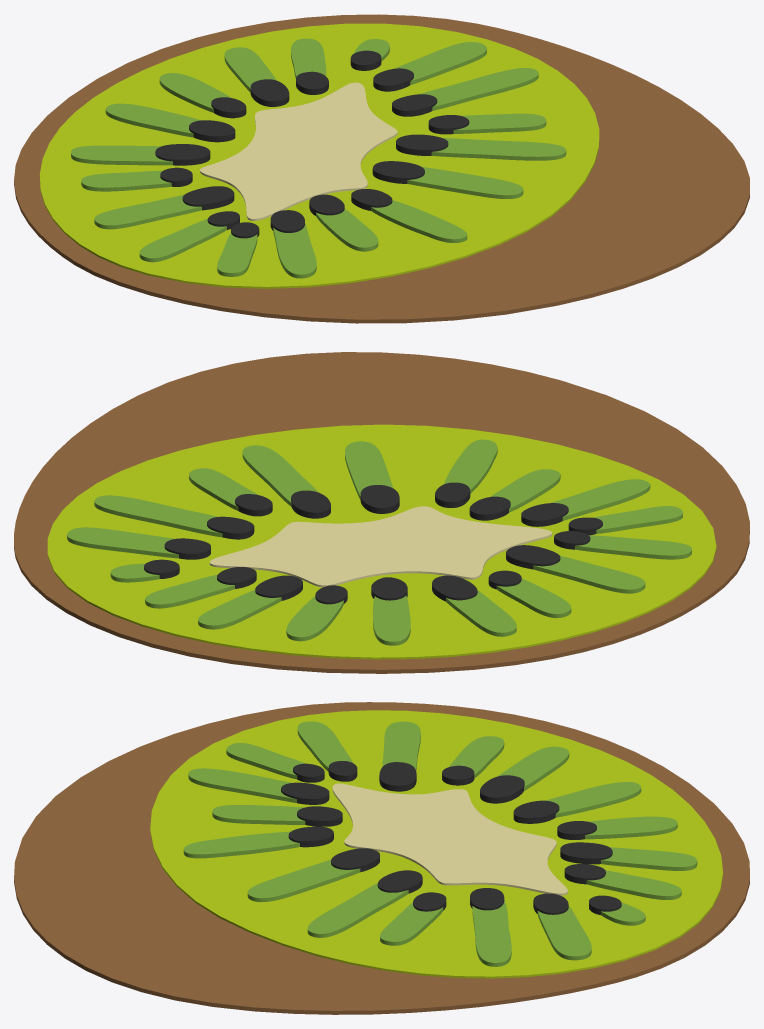
File: emoji_u1f95d.glb
3 views of the same model, one above another, from view 1: azimuth 30°, elevation 25°; view 2: azimuth 150°, elevation 25°; view 3: azimuth 270°, elevation 25° (orthographic). The views are drawn at different scales.
Parts seen in each view (by area): view 1: emoji_u1f95d; view 2: emoji_u1f95d; view 3: emoji_u1f95d.
Part boxes in pixels (x1=…): emoji_u1f95d: x1=14, y1=14, x2=749, y2=323; emoji_u1f95d: x1=14, y1=352, x2=749, y2=673; emoji_u1f95d: x1=14, y1=702, x2=749, y2=1014.
Bounding box in the file's own units: 0.0334 × 0.001 × 0.0336.
